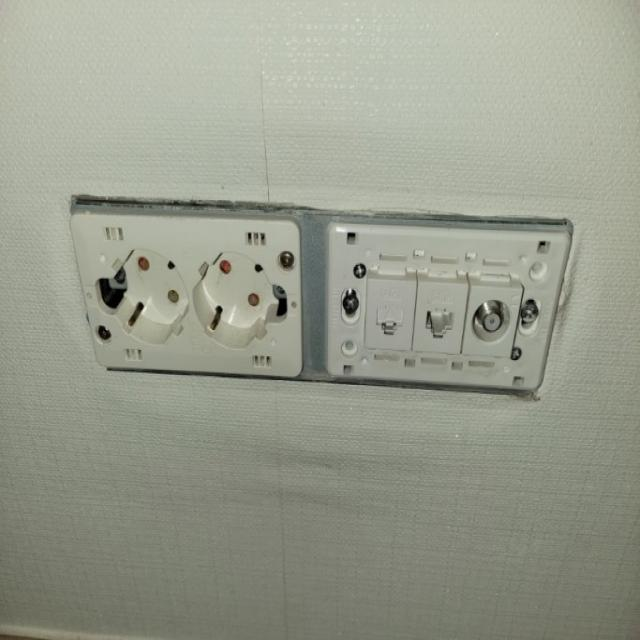typeb: (62, 180, 326, 432)
